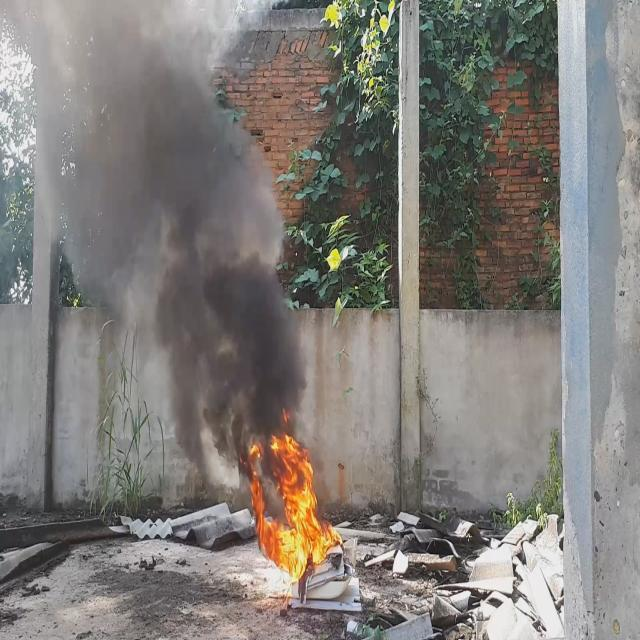Fire: (240, 430, 342, 580)
Smoke: (0, 0, 304, 524)
